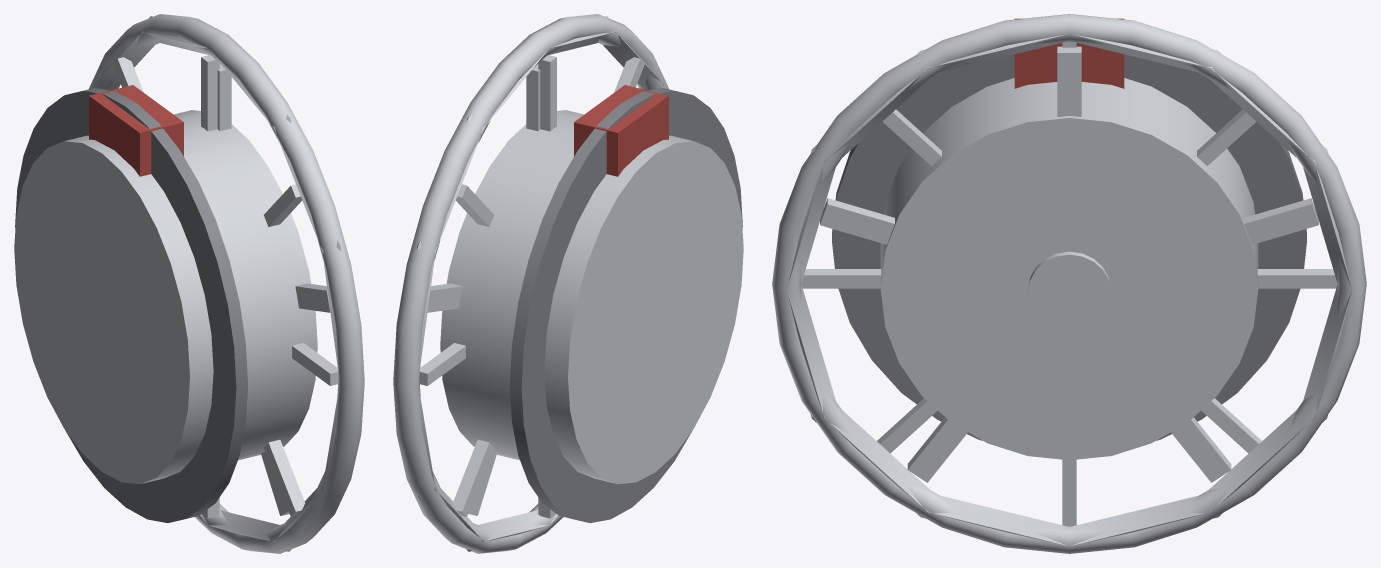
File: wh-steel.glb
3 views of the same model, side by side, from view 1: azimuth 30°, elevation 25°; view 2: azimuth 150°, elevation 25°; view 3: azimuth 270°, elevation 25° (orthographic). The views are drawn at different scales.
Parts seen in each view (by area): view 1: Chrome.001, Rotor, Chrome.002, Caliper, ChromeLOD, Chrome.008, Chrome.005, Chrome.007, ChromeLOD.002, ChromeLOD.003, Chrome.006, Chrome.012 (+1 smaller); view 2: Chrome.001, Rotor, Chrome.002, Caliper, ChromeLOD, Chrome.010, Chrome.005, Chrome.011, ChromeLOD.002, ChromeLOD.006, Chrome.012, Chrome.006 (+1 smaller); view 3: Chrome.001, Chrome.002, Rotor, ChromeLOD, Chrome.004, Caliper, ChromeLOD.003, ChromeLOD.006, ChromeLOD.004, ChromeLOD.005, ChromeLOD.002, Chrome.007 (+6 smaller).
Boxes of the visible parts, x1,y1,x2,y2 form: Chrome.001: (14, 110, 317, 484); Rotor: (15, 88, 247, 522); Chrome.002: (89, 14, 364, 553); Caliper: (89, 85, 183, 176); ChromeLOD: (94, 16, 340, 551); Chrome.008: (263, 439, 304, 516); Chrome.005: (201, 55, 219, 131); Chrome.007: (292, 343, 338, 385); ChromeLOD.002: (217, 64, 231, 131); ChromeLOD.003: (295, 283, 330, 312); Chrome.006: (264, 184, 302, 226); Chrome.012: (113, 57, 143, 92); Chrome.001: (440, 110, 743, 484); Rotor: (510, 88, 742, 522); Chrome.002: (393, 14, 668, 553); Caliper: (574, 85, 668, 176); ChromeLOD: (417, 16, 663, 551); Chrome.010: (453, 439, 494, 516); Chrome.005: (538, 55, 556, 131); Chrome.011: (419, 343, 465, 385); ChromeLOD.002: (526, 64, 540, 131); ChromeLOD.006: (427, 283, 462, 312); Chrome.012: (455, 184, 493, 226); Chrome.006: (614, 57, 644, 92); Chrome.001: (880, 78, 1258, 460); Chrome.002: (772, 14, 1366, 553); Rotor: (832, 54, 1306, 440); ChromeLOD: (787, 34, 1351, 545); Chrome.004: (1028, 251, 1110, 329); Caliper: (1014, 18, 1124, 88); ChromeLOD.003: (820, 198, 894, 244); ChromeLOD.006: (1244, 198, 1318, 244); ChromeLOD.004: (907, 417, 967, 482); ChromeLOD.005: (1171, 417, 1231, 482); ChromeLOD.002: (1057, 46, 1081, 116); Chrome.007: (801, 269, 881, 288).
Bounding box in the file's own units: 0.136 × 0.488 × 0.488.
